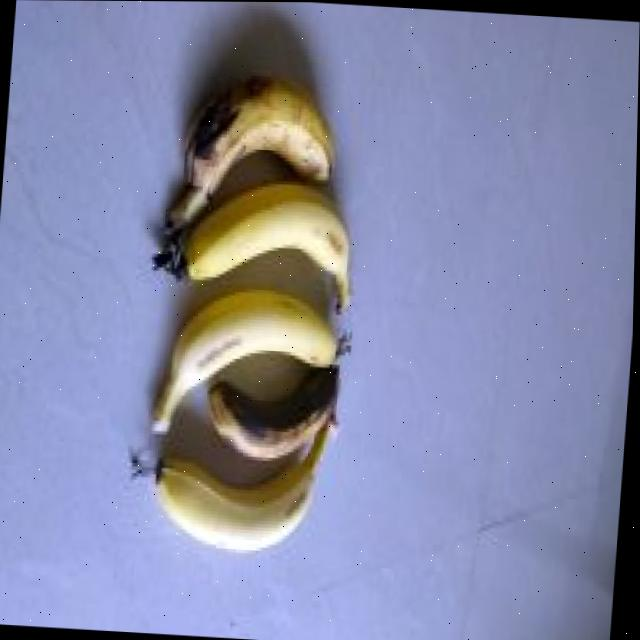Wet: (167, 67, 344, 246), (204, 343, 351, 465)
